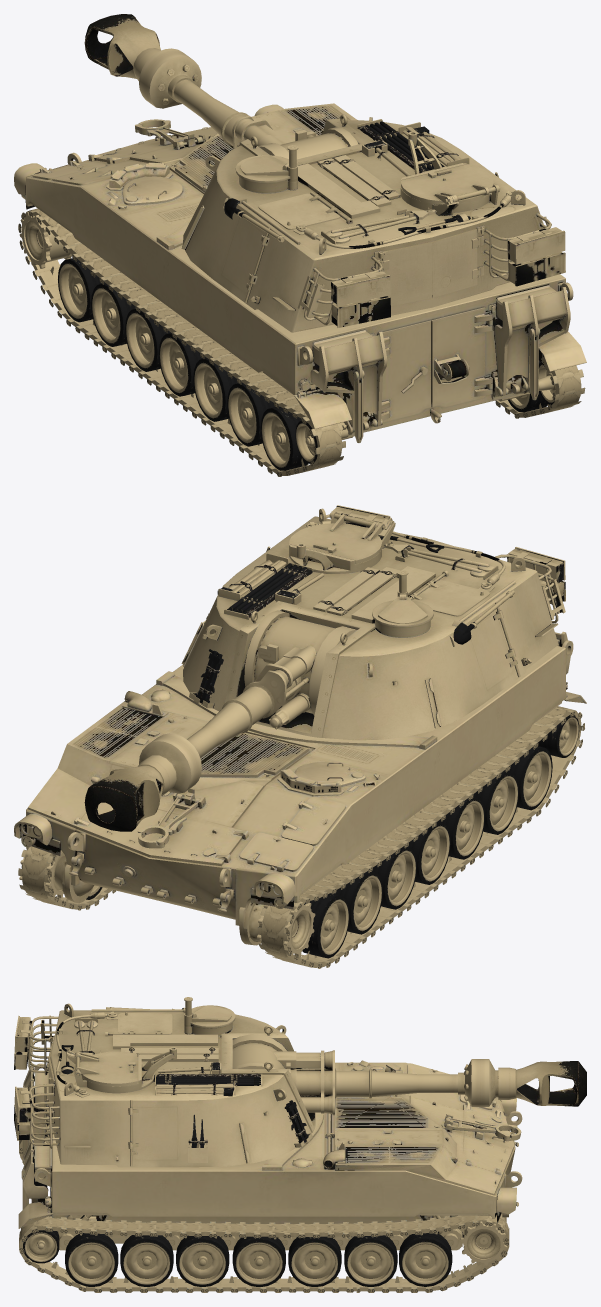
3 renders of one model, top to bottom at view 1: azimuth 30°, elevation 25°; view 2: azimuth 150°, elevation 25°; view 3: azimuth 270°, elevation 25°, orthographic. The views are drawn at different scales.
Parts seen in each view (by area): view 1: V_m109; view 2: V_m109; view 3: V_m109.
Boxes of the visible parts, left/top/right/bottom form: V_m109: left=14, top=14, right=586, bottom=476; V_m109: left=14, top=505, right=586, bottom=968; V_m109: left=14, top=997, right=586, bottom=1292.
Bounding box in the file's own units: 9.06 × 8.17 × 19.46.
5 materials, 5 textured.
